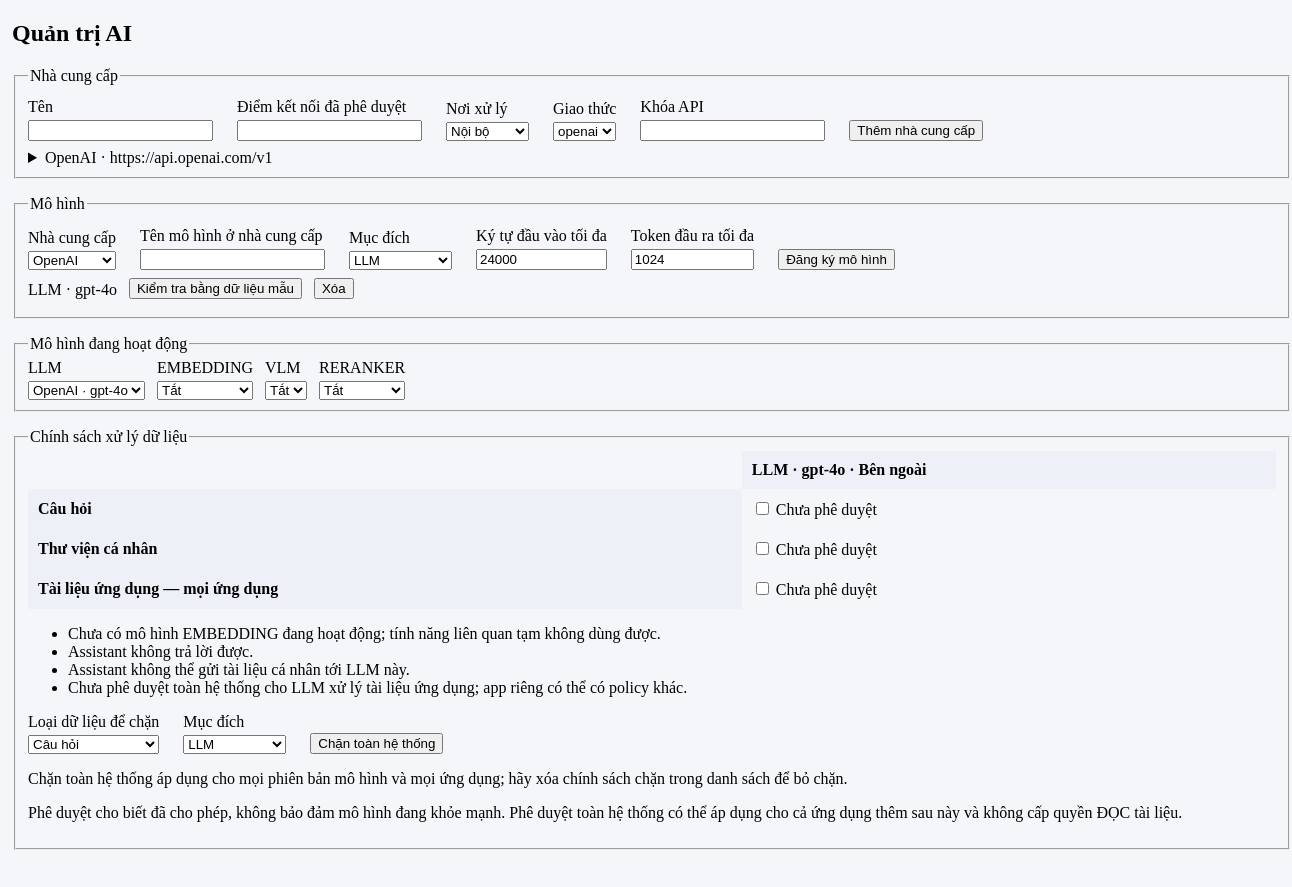
Test: ticks a hosted cell with an exact PUT payload then rereads the registry
Click the checkbox named "Câu hỏi · LLM · gpt-4o": (762, 509) x1=756 y1=502 x2=769 y2=515
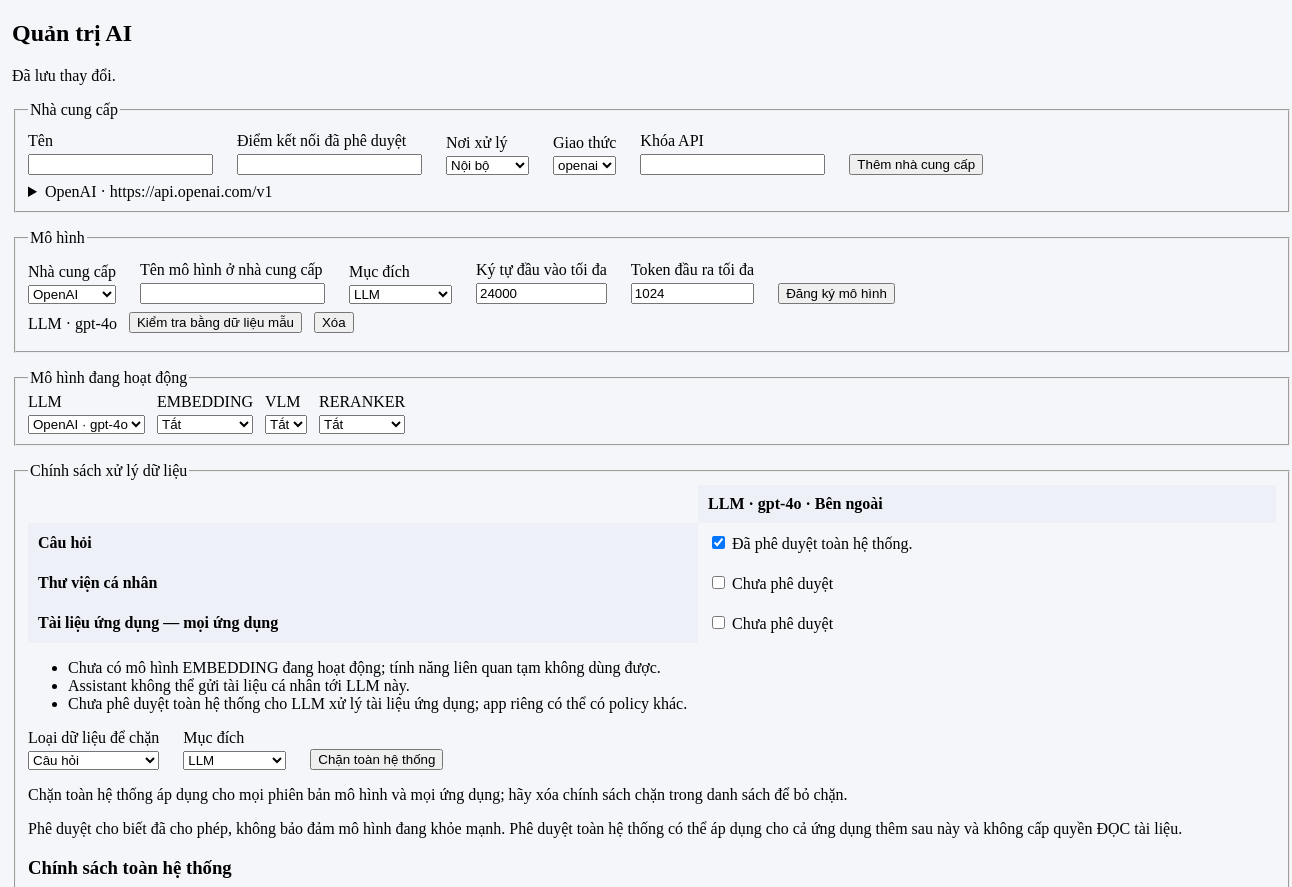
Result: the checkbox named "Câu hỏi · LLM · gpt-4o" is checked at x1=712 y1=536 x2=725 y2=549
